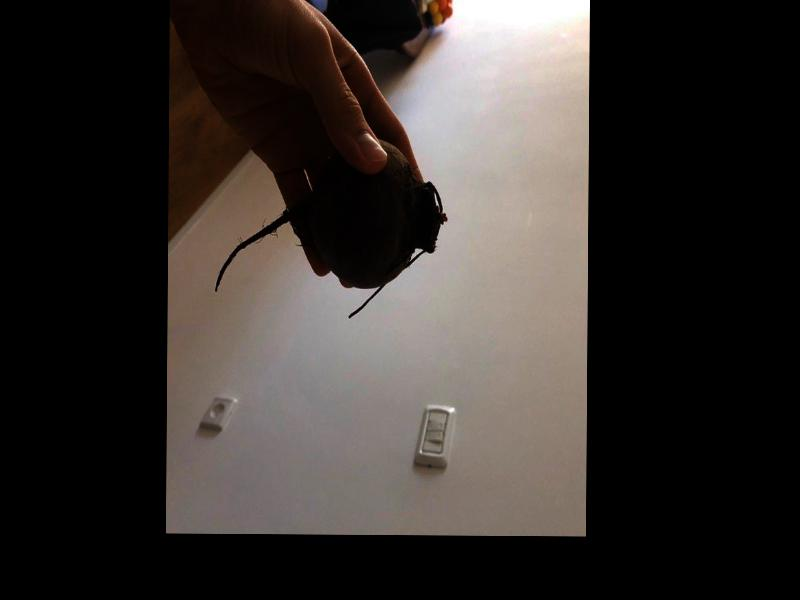Beet: (214, 136, 447, 320)
